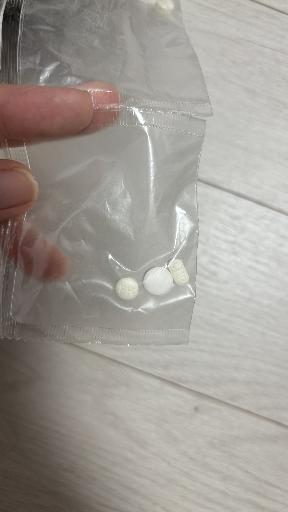Elexin: (115, 278, 138, 300)
Humosa: (168, 259, 189, 286)
Lexofen: (143, 267, 173, 296)
vinyl: (0, 0, 208, 345)
